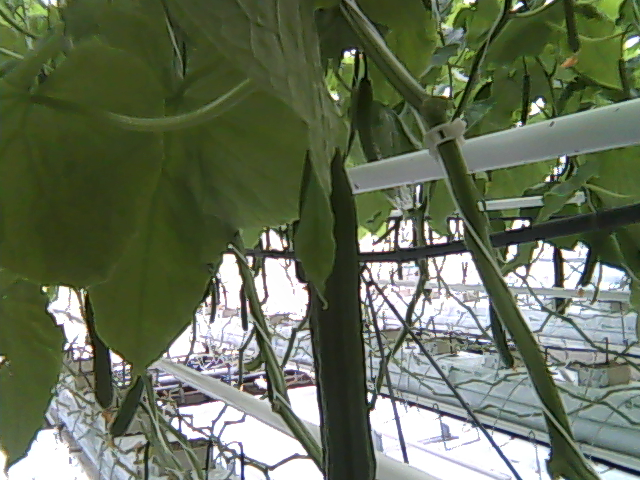concombre: (297, 146, 381, 480)
